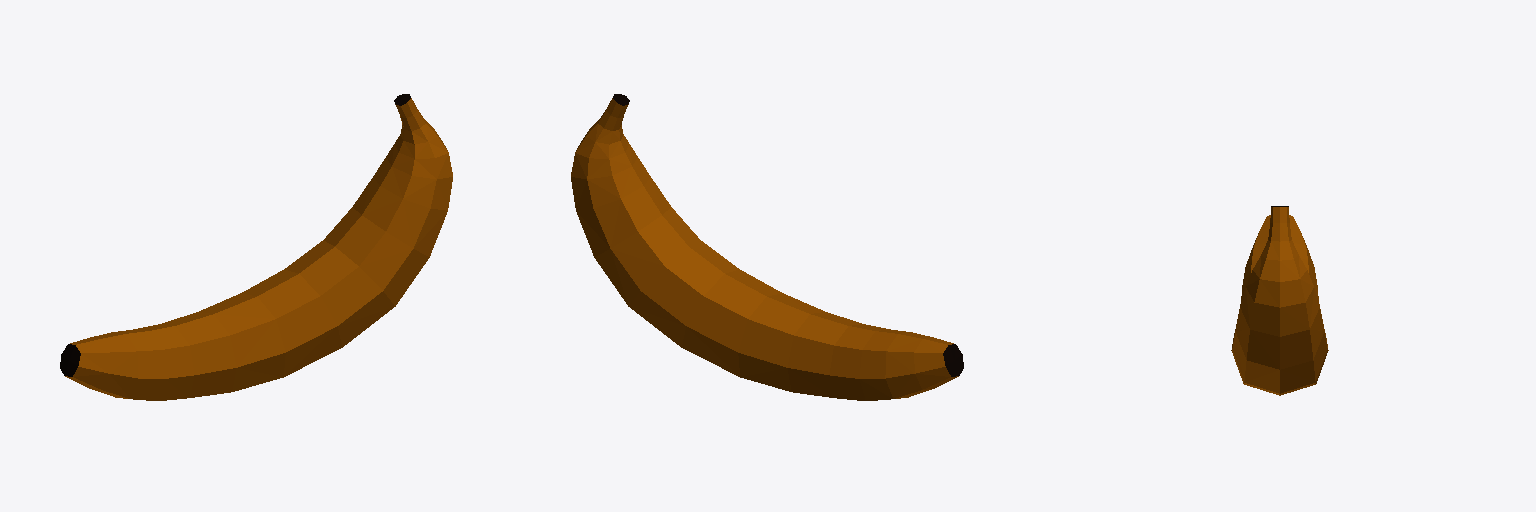
Rendered from banana.obj.
3 renders of one model, left to right at view 1: azimuth 30°, elevation 25°; view 2: azimuth 150°, elevation 25°; view 3: azimuth 270°, elevation 25°, orthographic.
Visible parts, largest first — view 1: banana_unpeeled_Cube.001; view 2: banana_unpeeled_Cube.001; view 3: banana_unpeeled_Cube.001.
Part boxes in pixels (x1,y1,x2,y2): banana_unpeeled_Cube.001: (60,94,452,400); banana_unpeeled_Cube.001: (571,94,963,400); banana_unpeeled_Cube.001: (1231,206,1328,395).
Size of the model in its own units: 8.65 by 5.37 by 1.9.